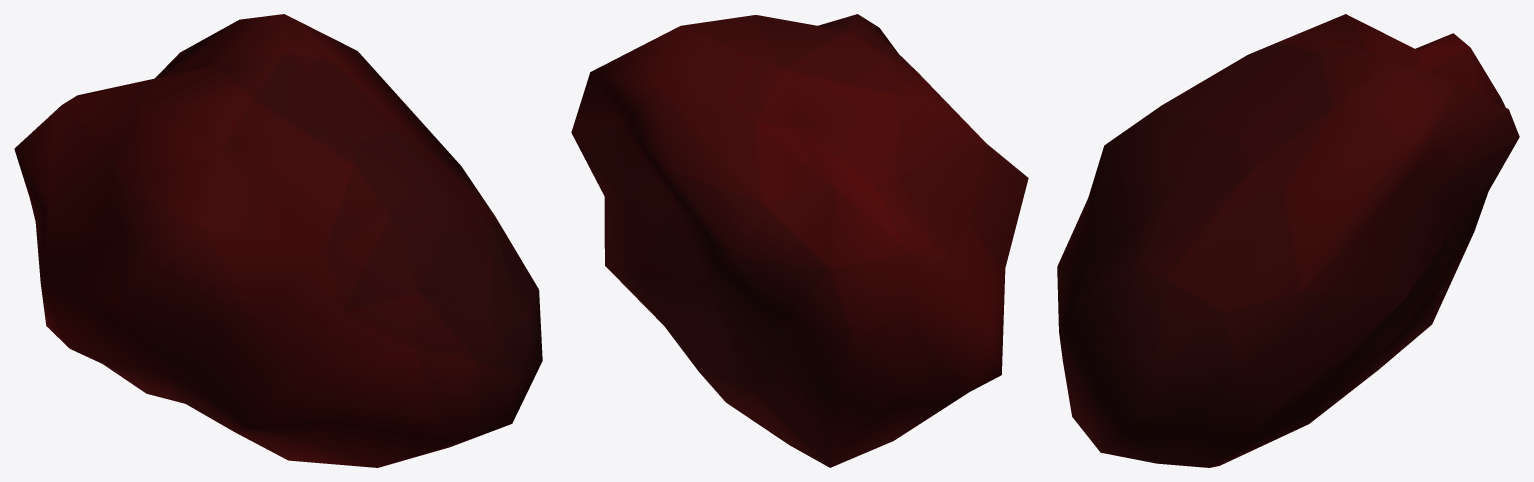
File: geology-rocks-asteroidsmall_v3.fbx
The picture shows the model from 3 angles, left to right: view 1: azimuth 30°, elevation 25°; view 2: azimuth 150°, elevation 25°; view 3: azimuth 270°, elevation 25°; orthographic projection. The views are drawn at different scales.
Visible parts, largest first — view 1: AsteroidSmall_v3; view 2: AsteroidSmall_v3; view 3: AsteroidSmall_v3.
Part boxes in pixels (x1,y1,x2,y2): AsteroidSmall_v3: [14, 14, 542, 467]; AsteroidSmall_v3: [571, 14, 1028, 467]; AsteroidSmall_v3: [1057, 14, 1519, 467].
Size of the model in its own units: 0.487 by 0.4461 by 0.4738.
